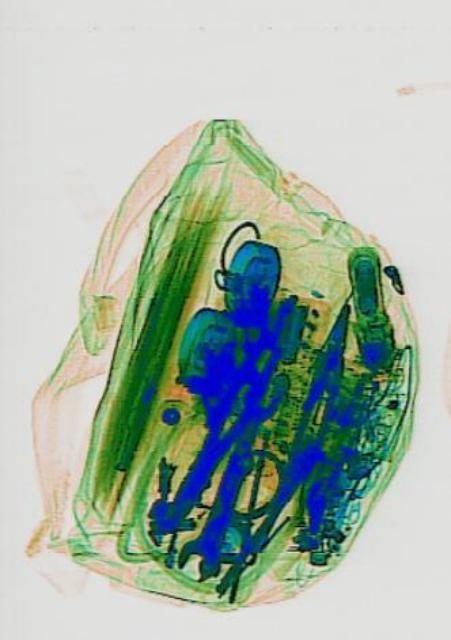Pliers: (275, 294, 362, 492)
Wrench: (170, 370, 283, 590)
